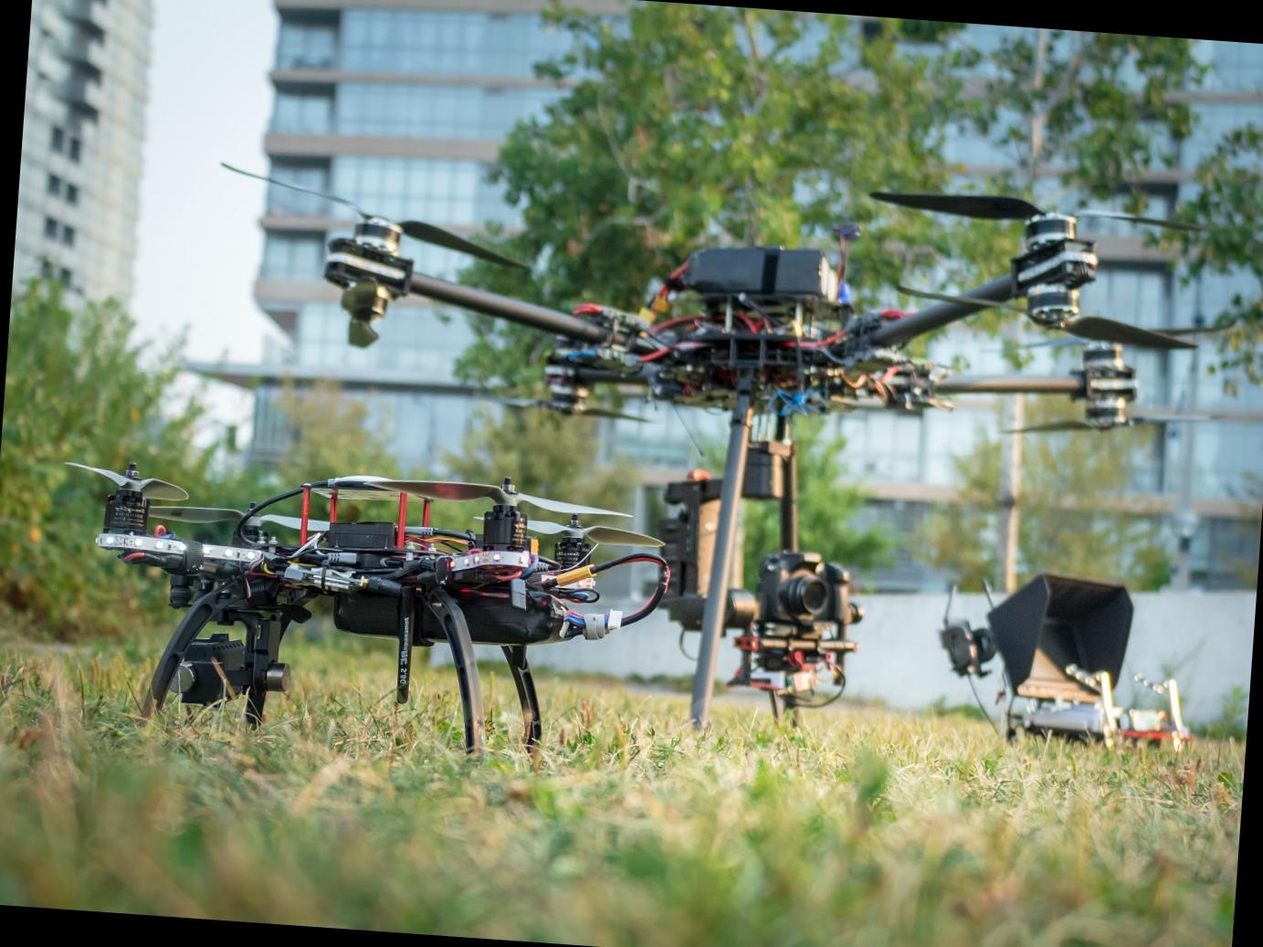drone: (200, 130, 1244, 502), (27, 434, 664, 672)
